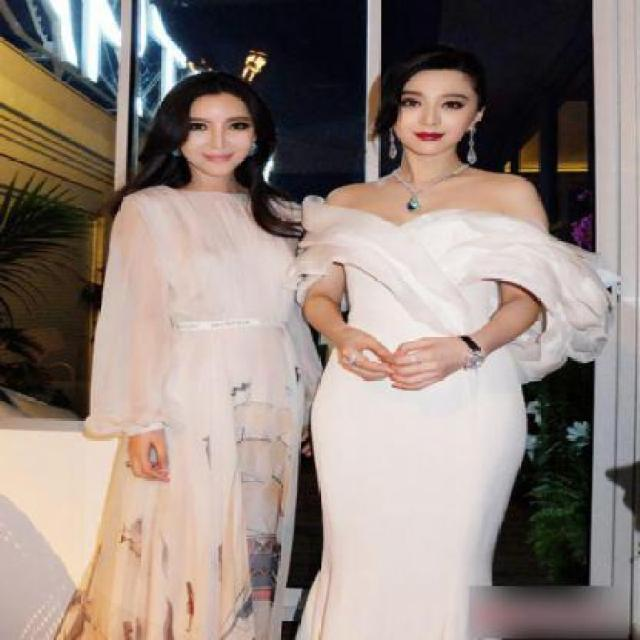Person: (277, 28, 617, 640), (58, 68, 316, 640)
